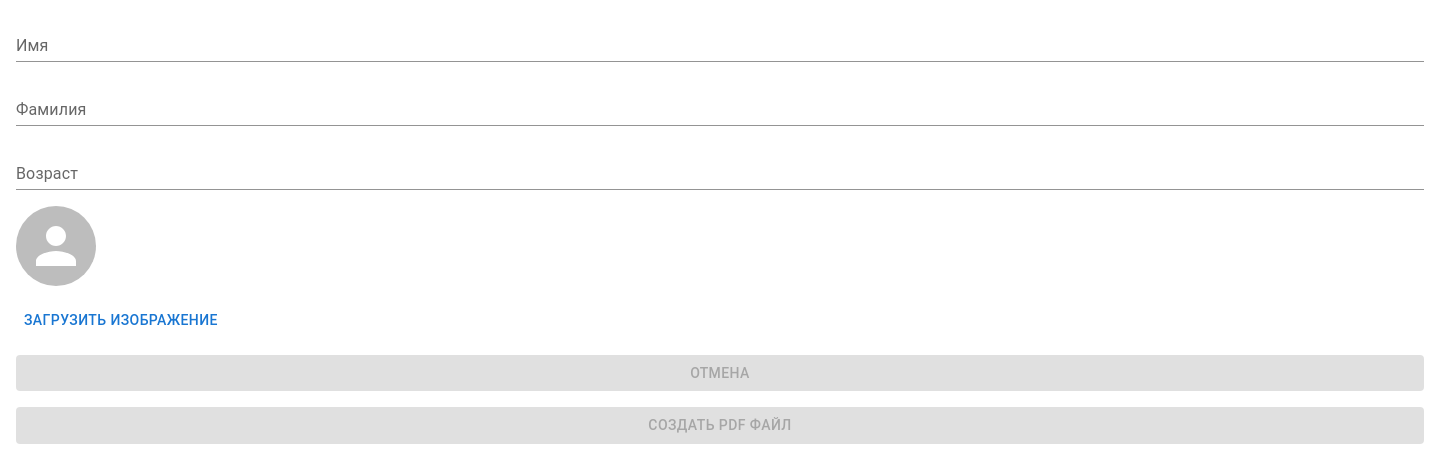
Scenario: CreateUserInfoPdf › Сброс формы
Type "John" into the field with test id "name-input" at (720, 46), box [16,30,1424,62]
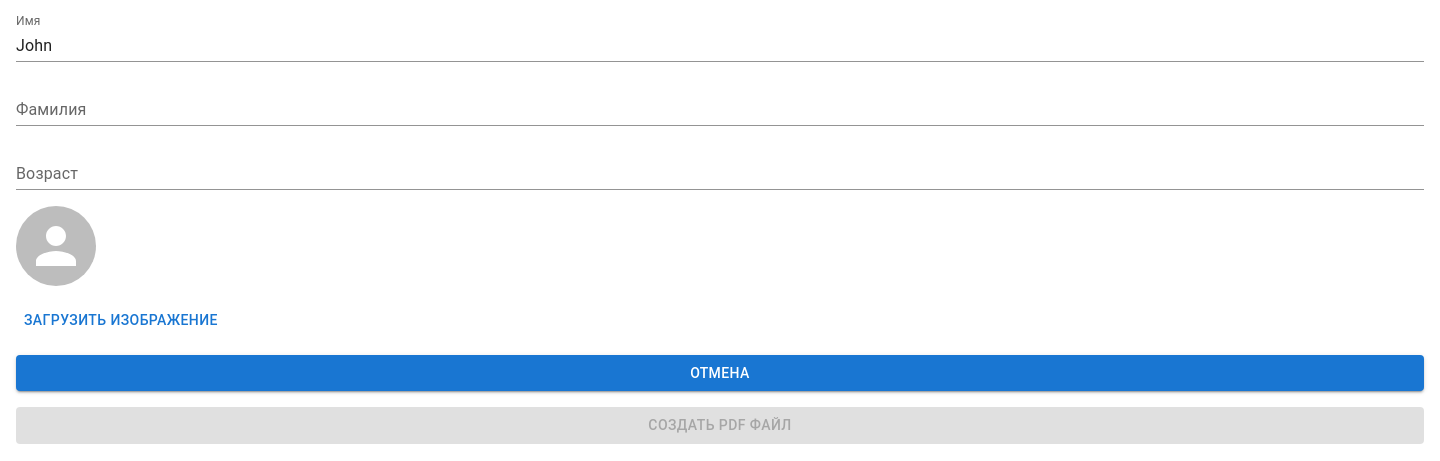
Type "Doe" into the field with test id "surname-input" at (720, 110), box [16,94,1424,126]
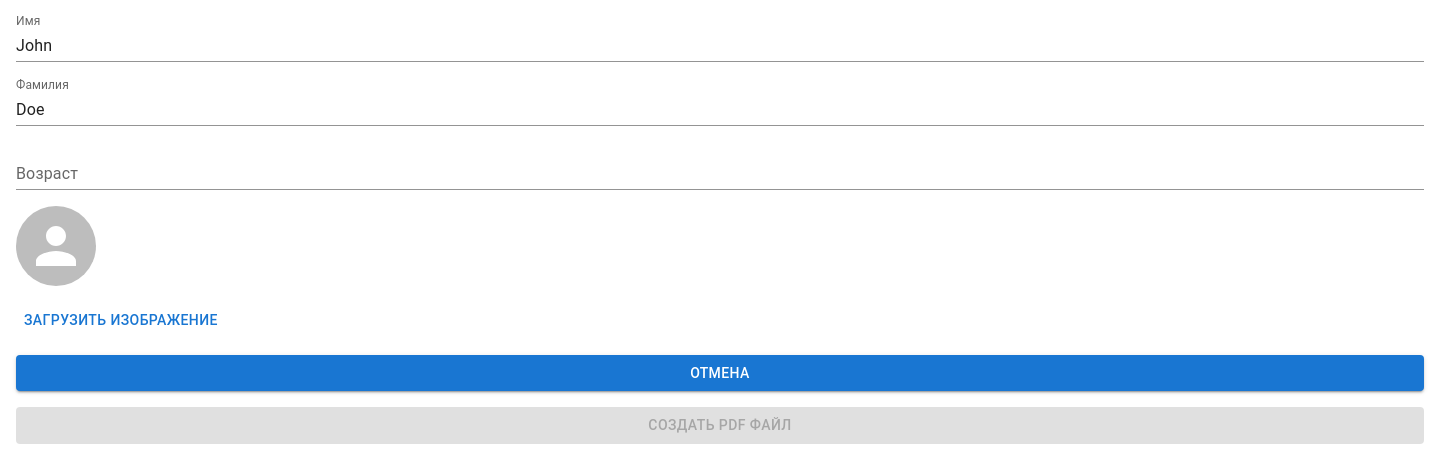
Type "30" into the field with test id "age-input" at (720, 174), box [16,158,1424,190]
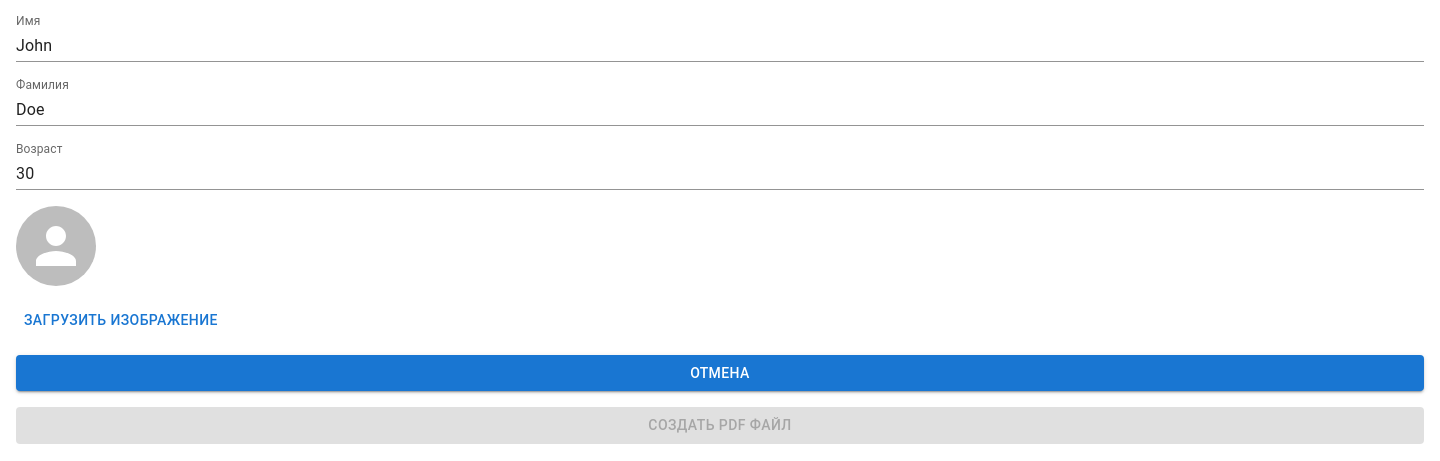
Click the button with test id "reset-btn" at (720, 373), box [16,354,1424,391]
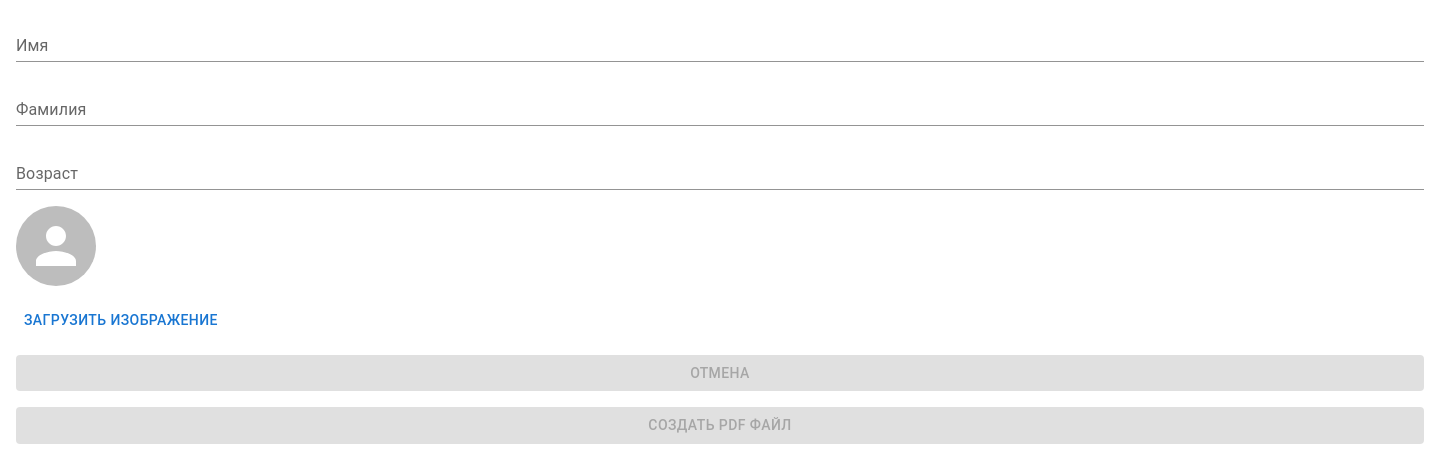
Now the field with test id "name-input" is empty, box [16,30,1424,62]
Now the field with test id "surname-input" is empty, box [16,94,1424,126]
Now the field with test id "age-input" is empty, box [16,158,1424,190]
